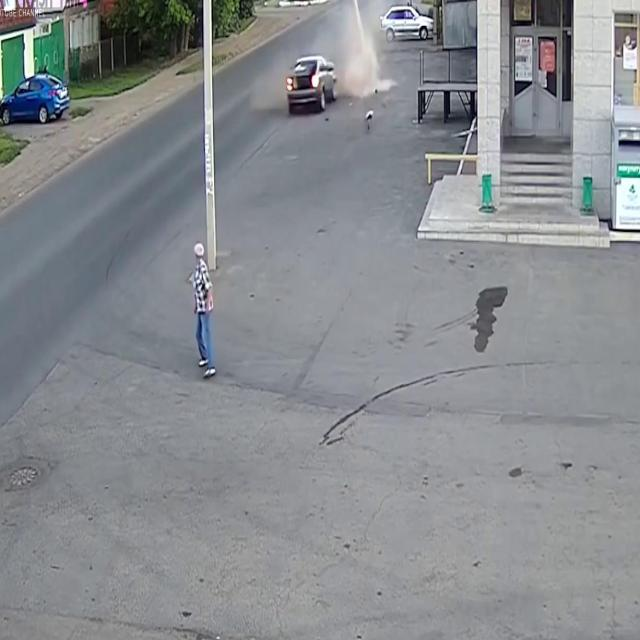accident: (274, 35, 346, 133)
